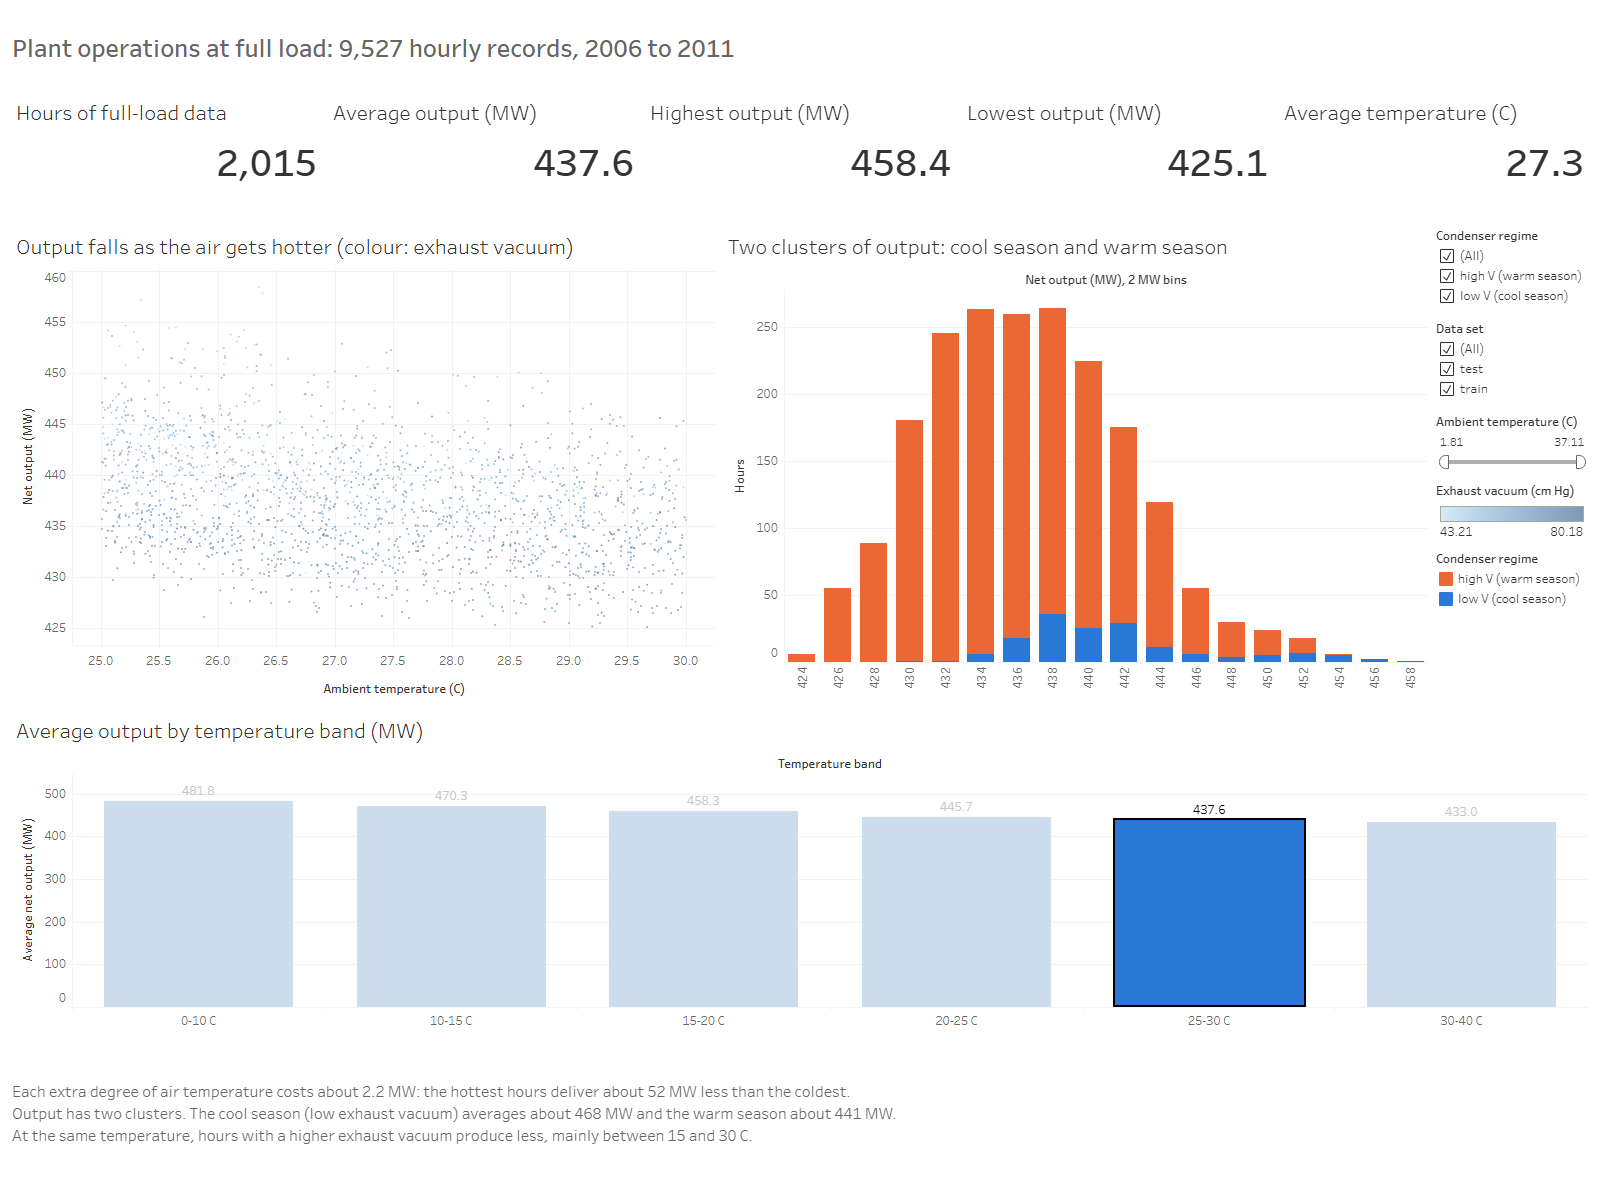

The page's visual inventory and layout, read from the dashboard file:
{"tool":"tableau","page":{"name":"Plant operations","canvas":[1600,1200],"ordinal":2},"visuals":[{"type":"text","box":[8,8,1584,80.4]},{"type":"worksheet","title":"KPI hours","mark":"Automatic","box":[8,88,317,134]},{"type":"worksheet","title":"KPI average output","mark":"Automatic","box":[325,88,317,134]},{"type":"worksheet","title":"KPI highest output","mark":"Automatic","box":[642,88,317,134]},{"type":"worksheet","title":"KPI lowest output","mark":"Automatic","box":[959,88,317,134]},{"type":"worksheet","title":"KPI average temperature","mark":"Automatic","box":[1276,88,316,134]},{"type":"worksheet","title":"Output vs temperature","mark":"Circle","rows":["Net output (MW)"],"cols":["Ambient temperature (C)"],"box":[8,222,712,483.8]},{"type":"worksheet","title":"Output distribution","mark":"Automatic","rows":["Hour ID"],"cols":["Net output (MW) (bin)"],"box":[720,222,712,483.8]},{"type":"filter","title":"Output vs temperature","param":"[federated.0cw6bld19u7vyt1air5vq1tj6jl8].[none:Condenser regime:nk]","box":[1432,222,160,89]},{"type":"filter","title":"Output vs temperature","param":"[federated.0cw6bld19u7vyt1air5vq1tj6jl8].[none:Data set:nk]","box":[1432,311,160,89]},{"type":"filter","title":"Output vs temperature","param":"[federated.0cw6bld19u7vyt1air5vq1tj6jl8].[none:Ambient temperature (C):qk]","box":[1432,400,160,69]},{"type":"legend","title":"Output vs temperature","param":"[federated.0cw6bld19u7vyt1air5vq1tj6jl8].[sum:Exhaust vacuum (cm Hg):qk]","box":[1432,469,160,65]},{"type":"legend","title":"Output distribution","param":"[federated.0cw6bld19u7vyt1air5vq1tj6jl8].[none:Condenser regime:nk]","box":[1432,534,160,66]},{"type":"worksheet","title":"Output by temperature band","mark":"Automatic","rows":["Net output (MW)"],"cols":["Temperature band"],"box":[8,705.8,1584,326.8]},{"type":"text","box":[8,1032.6,1584,159.4]}]}

Visuals, with their boxes in screenshot pixels (x1, y1, x2, y2), scaled from the page's 1600x1200 canvas onto the 1600x1200 screenshot:
text: region(8, 8, 1592, 88)
"KPI hours" worksheet: region(8, 88, 325, 222)
"KPI average output" worksheet: region(325, 88, 642, 222)
"KPI highest output" worksheet: region(642, 88, 959, 222)
"KPI lowest output" worksheet: region(959, 88, 1276, 222)
"KPI average temperature" worksheet: region(1276, 88, 1592, 222)
"Output vs temperature" worksheet (Circle marks): region(8, 222, 720, 706)
"Output distribution" worksheet: region(720, 222, 1432, 706)
"Output vs temperature" filter: region(1432, 222, 1592, 311)
"Output vs temperature" filter: region(1432, 311, 1592, 400)
"Output vs temperature" filter: region(1432, 400, 1592, 469)
"Output vs temperature" legend: region(1432, 469, 1592, 534)
"Output distribution" legend: region(1432, 534, 1592, 600)
"Output by temperature band" worksheet: region(8, 706, 1592, 1033)
text: region(8, 1033, 1592, 1192)
